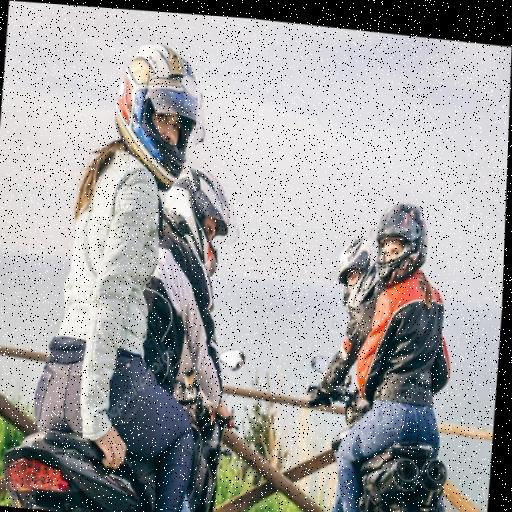Helmet: (105, 26, 216, 192), (166, 156, 236, 272), (370, 190, 433, 280), (334, 226, 384, 298)
